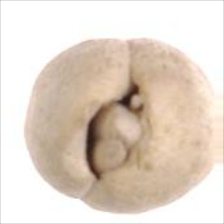L3: (81, 80, 155, 185)
L4: (23, 38, 213, 215)
